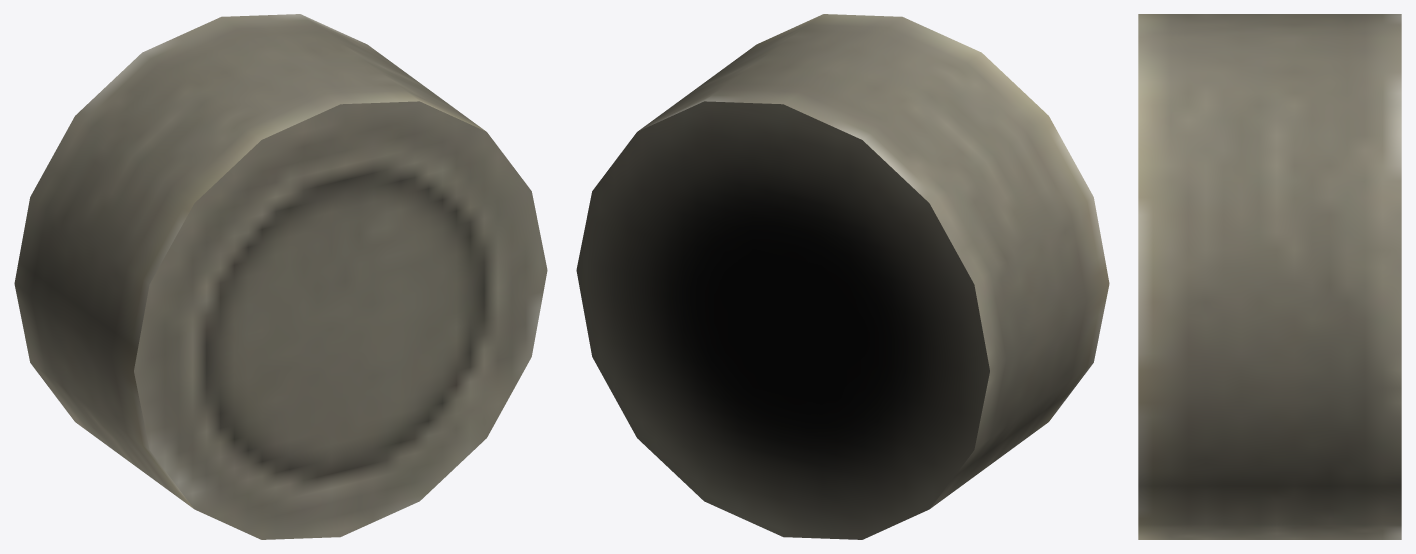
File: dorsal_base.obj
3 renders of one model, left to right at view 1: azimuth 30°, elevation 25°; view 2: azimuth 150°, elevation 25°; view 3: azimuth 270°, elevation 25°, orthographic. The views are drawn at different scales.
Visible parts, largest first — view 1: mesh1; view 2: mesh1; view 3: mesh1.
Boxes of the visible parts, left/top/right/bottom form: mesh1: left=14, top=14, right=547, bottom=539; mesh1: left=576, top=14, right=1109, bottom=539; mesh1: left=1138, top=14, right=1401, bottom=539.
Size of the model in its own units: 0.15 by 0.15 by 0.075.
1 material, 1 textured.
